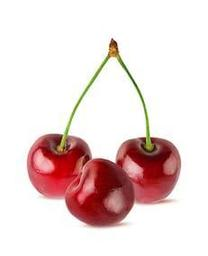cherry: (65, 157, 135, 227), (116, 136, 181, 203), (27, 133, 92, 199)
